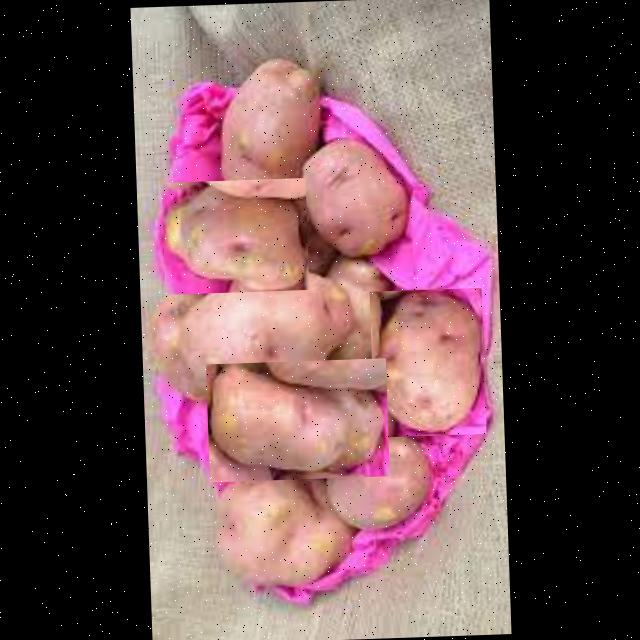Defected potato: (162, 265, 358, 401), (206, 357, 390, 481), (210, 464, 358, 590), (369, 286, 486, 436), (161, 176, 309, 294), (296, 131, 411, 260), (324, 428, 432, 532)
